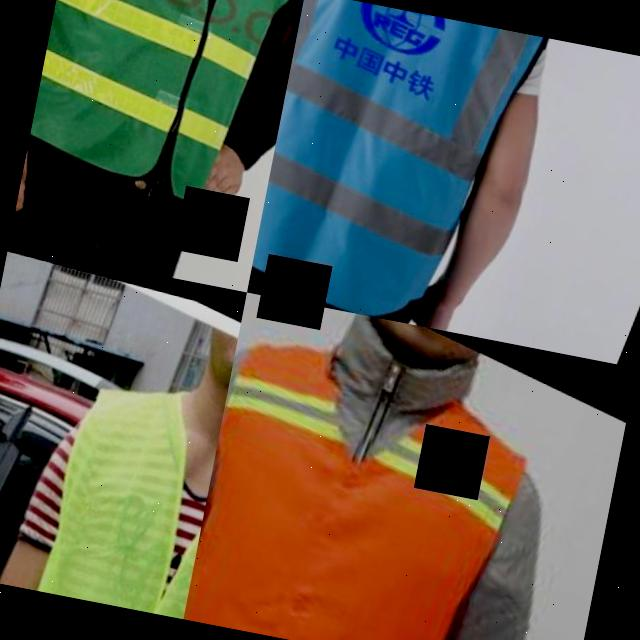vest: (183, 310, 546, 640), (247, 0, 541, 338), (24, 0, 305, 211), (0, 360, 226, 619)
